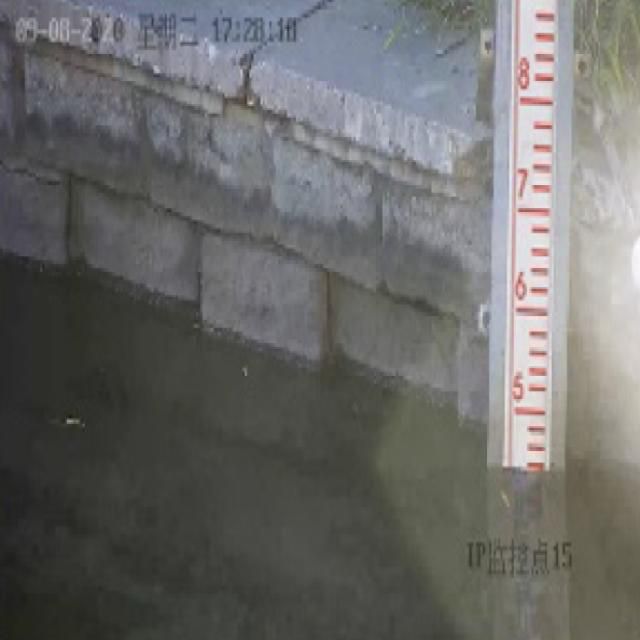water-level-meters: (498, 0, 566, 631)
